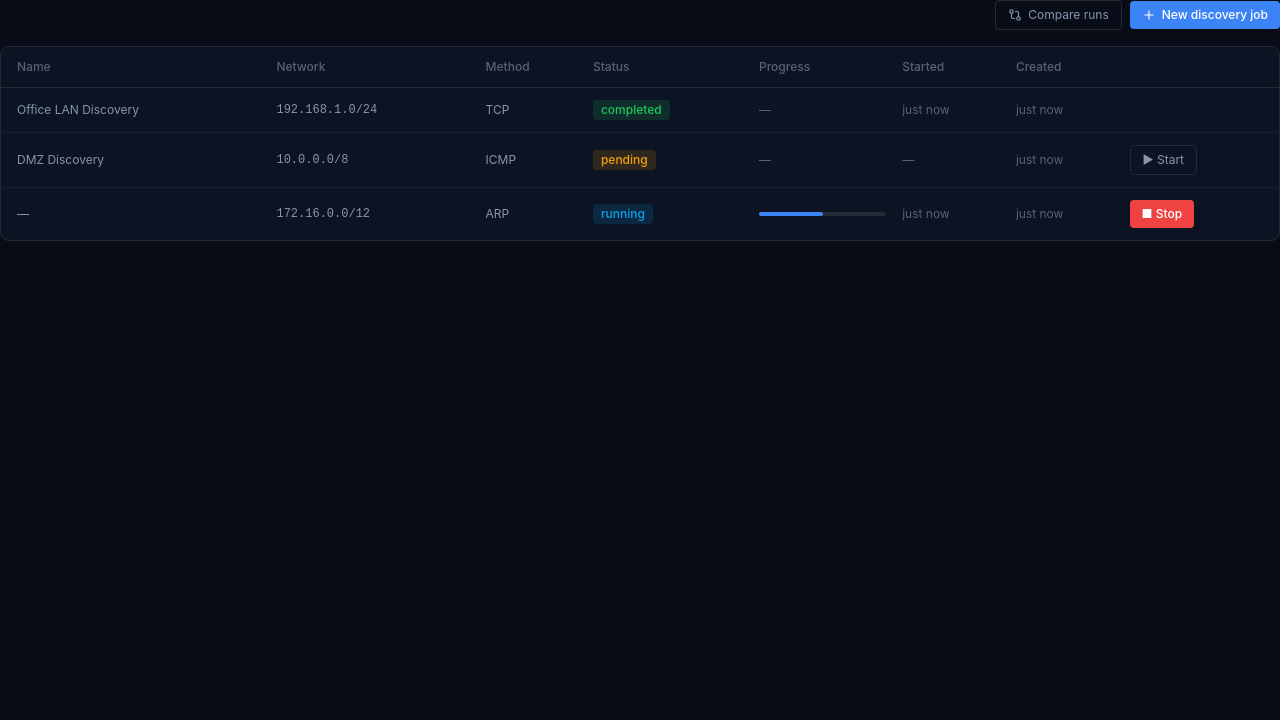
Scenario: DiscoveryPage › shows 'Discovery #ID' as title when job name is missing
Click the row "— 172.16.0.0/12 ARP running just now just now ■ Stop": (640, 214) left=1, top=188, right=1279, bottom=240
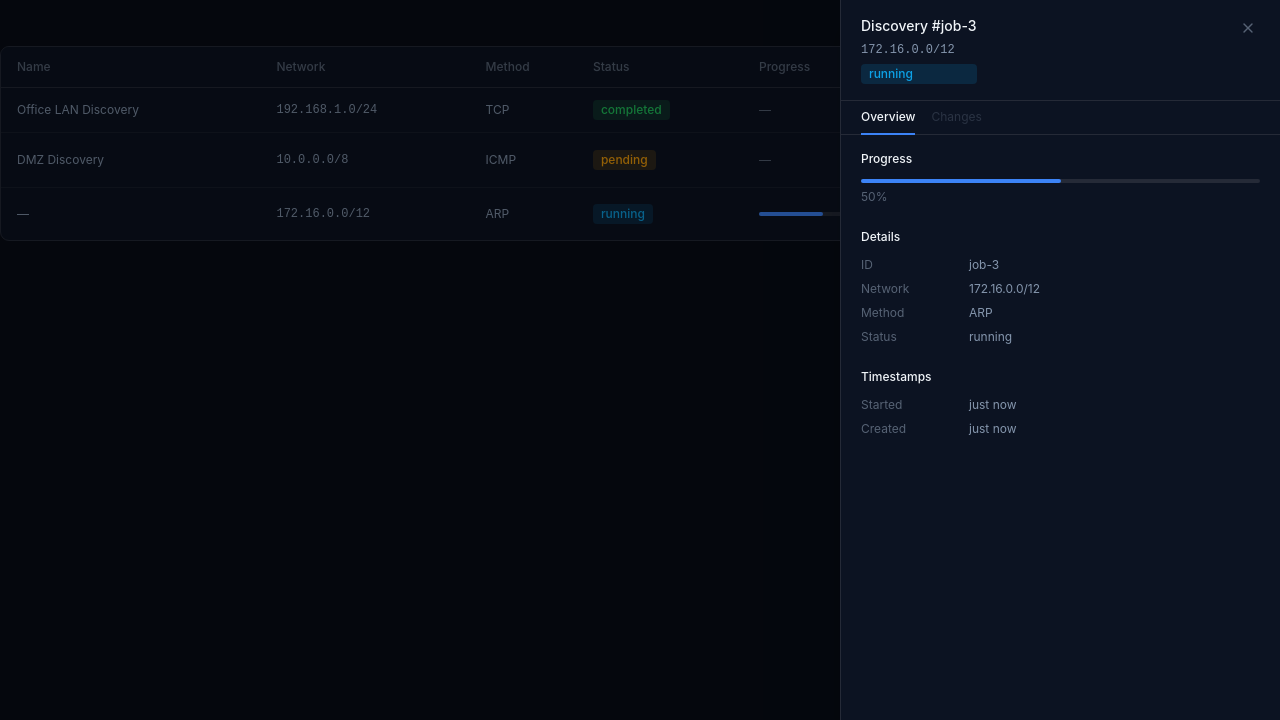
Now the text "Discovery #job-3" is shown, box left=861, top=16, right=977, bottom=36
